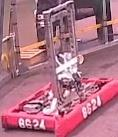red_number: (80, 94, 103, 122), (16, 116, 48, 132)
